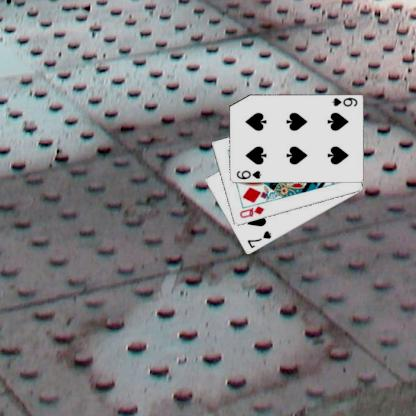6S: (234, 168, 262, 181), (330, 96, 358, 108)
7S: (244, 228, 272, 250)
QD: (237, 204, 265, 220)
